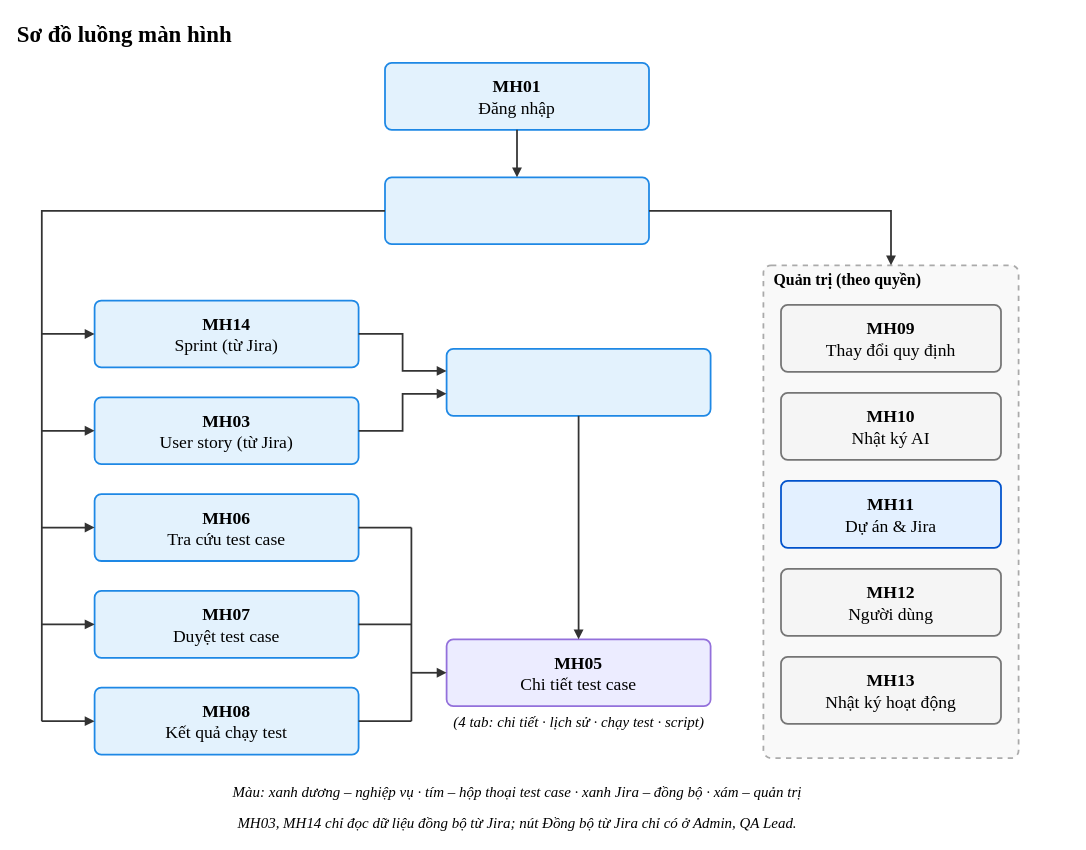
The diagram is 1086 pixels wide and 850 high, and some of its shapes have lost their labels. The centre of each missing label's shape, as x and y in pixels:
"MH02 Tổng quan & báo cáo" goes at pixel 516 210.
"MH04 Chi tiết user story" goes at pixel 578 382.
